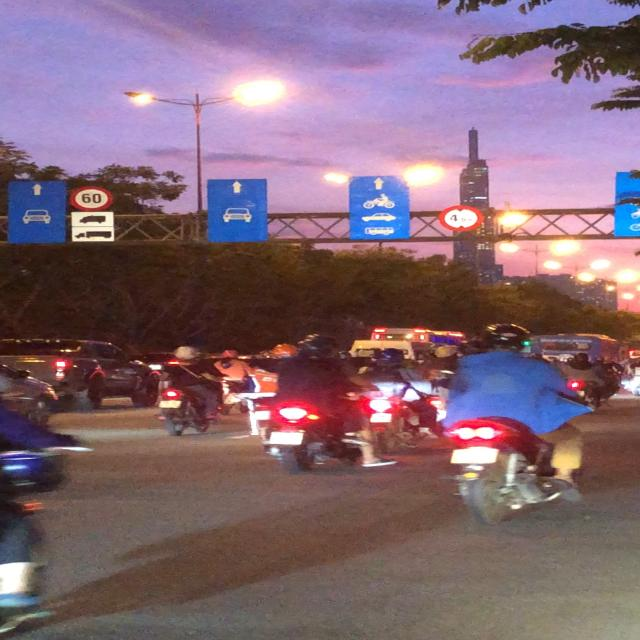Bien bao han che chieu cao: (438, 203, 490, 231)
Bien bao toc do toi da cho phep: (67, 183, 123, 212)
